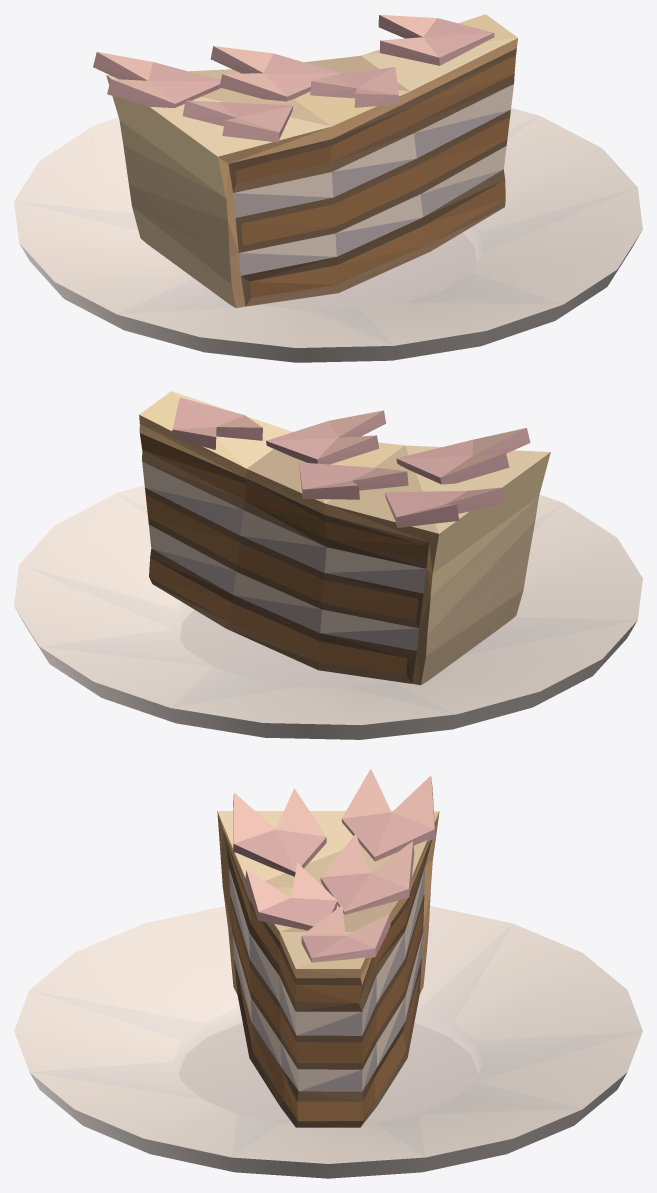
File: cake_plate.fbx
The picture shows the model from 3 angles, top to bottom: view 1: azimuth 30°, elevation 25°; view 2: azimuth 150°, elevation 25°; view 3: azimuth 270°, elevation 25°; orthographic projection.
Visible parts, largest first — view 1: cake; view 2: cake; view 3: cake.
Boxes of the visible parts, x1=… form: cake: x1=14, y1=14, x2=642, y2=362; cake: x1=14, y1=391, x2=642, y2=739; cake: x1=14, y1=768, x2=642, y2=1178.
Bounding box in the file's own units: 23.35 × 9.67 × 23.35.
